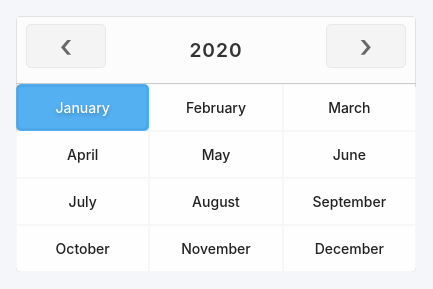
Scenario: MonthPicker – year navigation › decrements the displayed year
Step 1. Click the button "‹" → x=66, y=46, box [26,24,106,68]
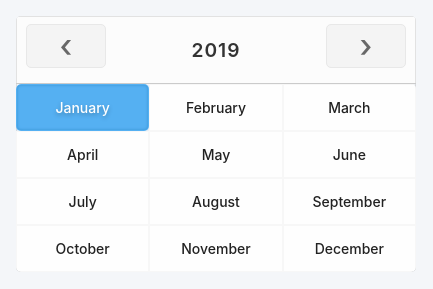
Now the text "2019" is shown, box [192,38,240,62]
